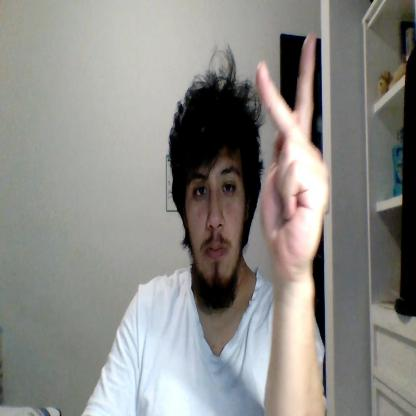P: (255, 32, 329, 272)
